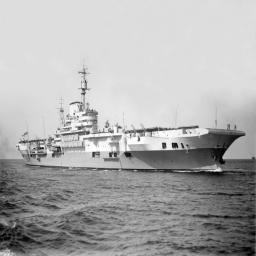Portanaves: (15, 59, 247, 175)
